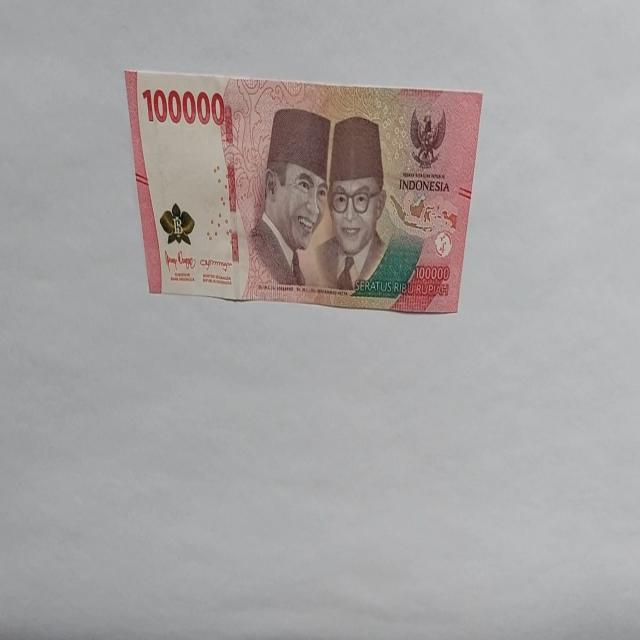seratus ribu rupiah: (124, 68, 484, 316)
